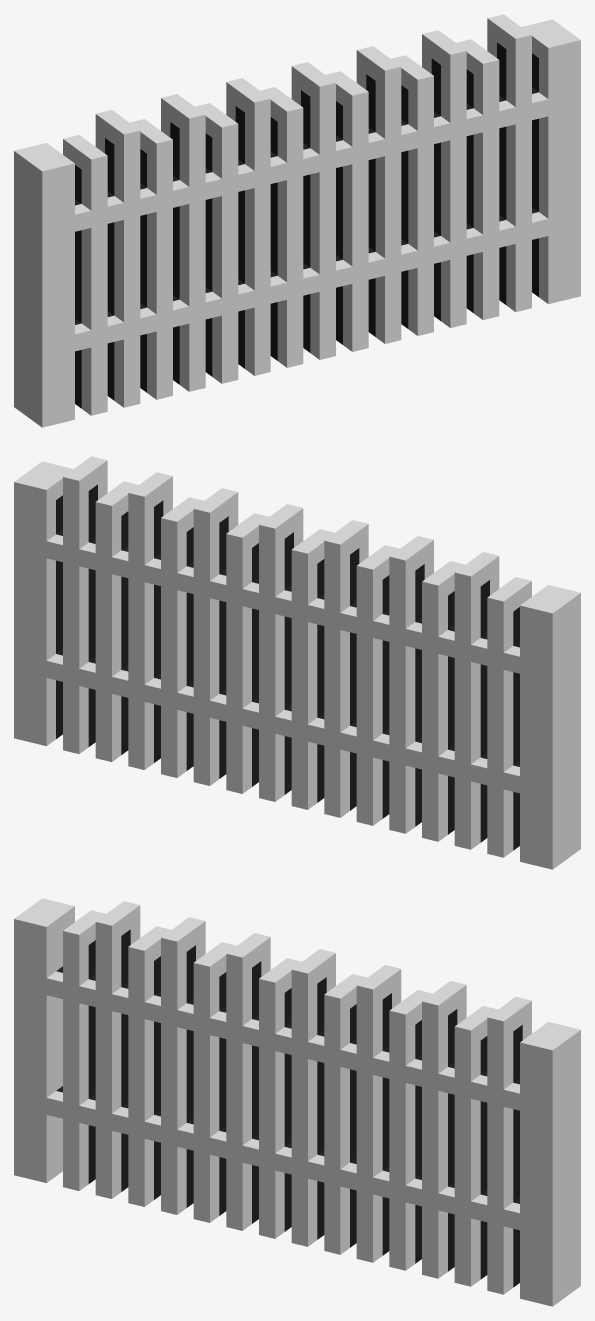
Rendered from Fences-1-FenceWhite1.obj.
3 renders of one model, top to bottom at view 1: azimuth 30°, elevation 25°; view 2: azimuth 150°, elevation 25°; view 3: azimuth 330°, elevation 25°, orthographic.
Visible parts, largest first — view 1: FenceWhite1; view 2: FenceWhite1; view 3: FenceWhite1.
Part boxes in pixels (bbox=[...]): FenceWhite1: bbox=[14, 14, 580, 427]; FenceWhite1: bbox=[14, 456, 580, 869]; FenceWhite1: bbox=[14, 898, 580, 1306].
Size of the model in its own units: 3.3 by 1.6 by 0.3.
Materials: 1 (1 with a texture image).
